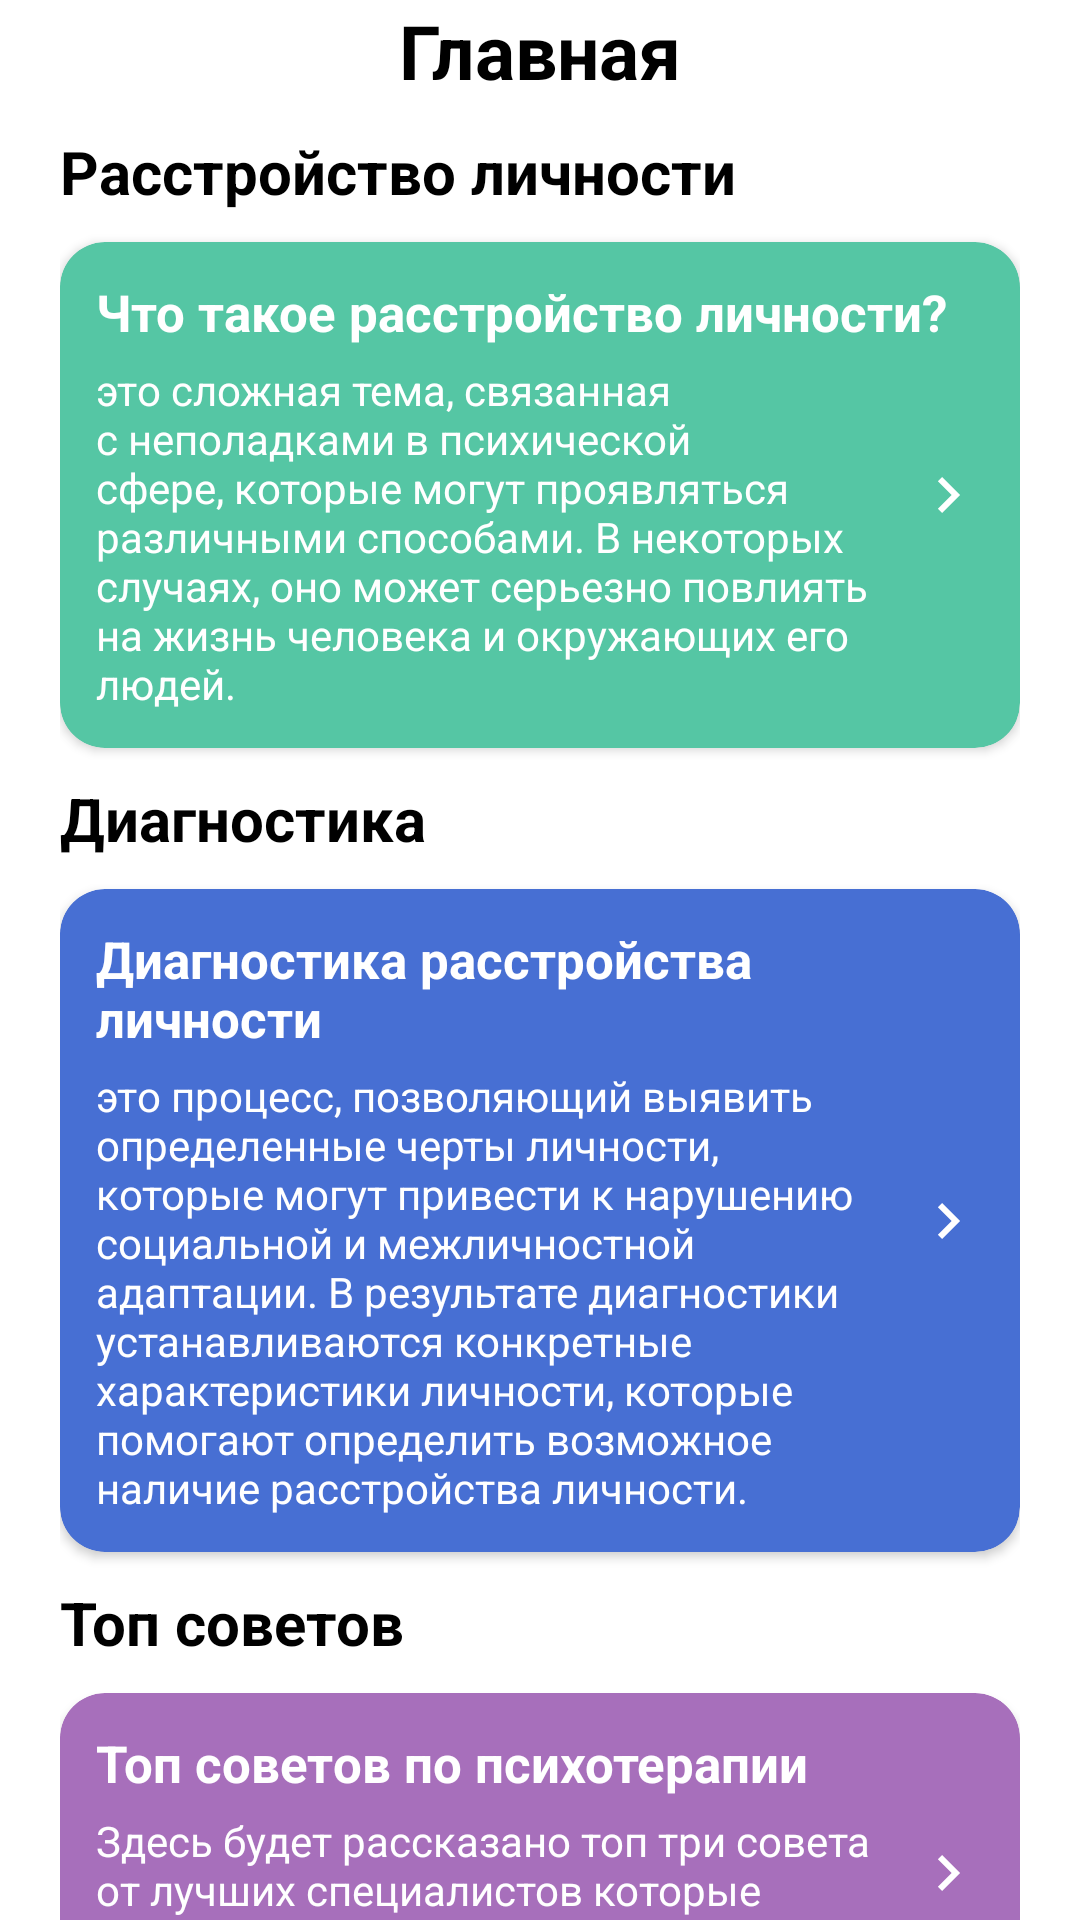

Icons on this 1080 x 1920 Android screen, each with its box as bbox(x1, y1, x2, y2):
next: bbox(938, 477, 960, 513), bbox(938, 1203, 960, 1239), bbox(938, 1855, 960, 1891)
